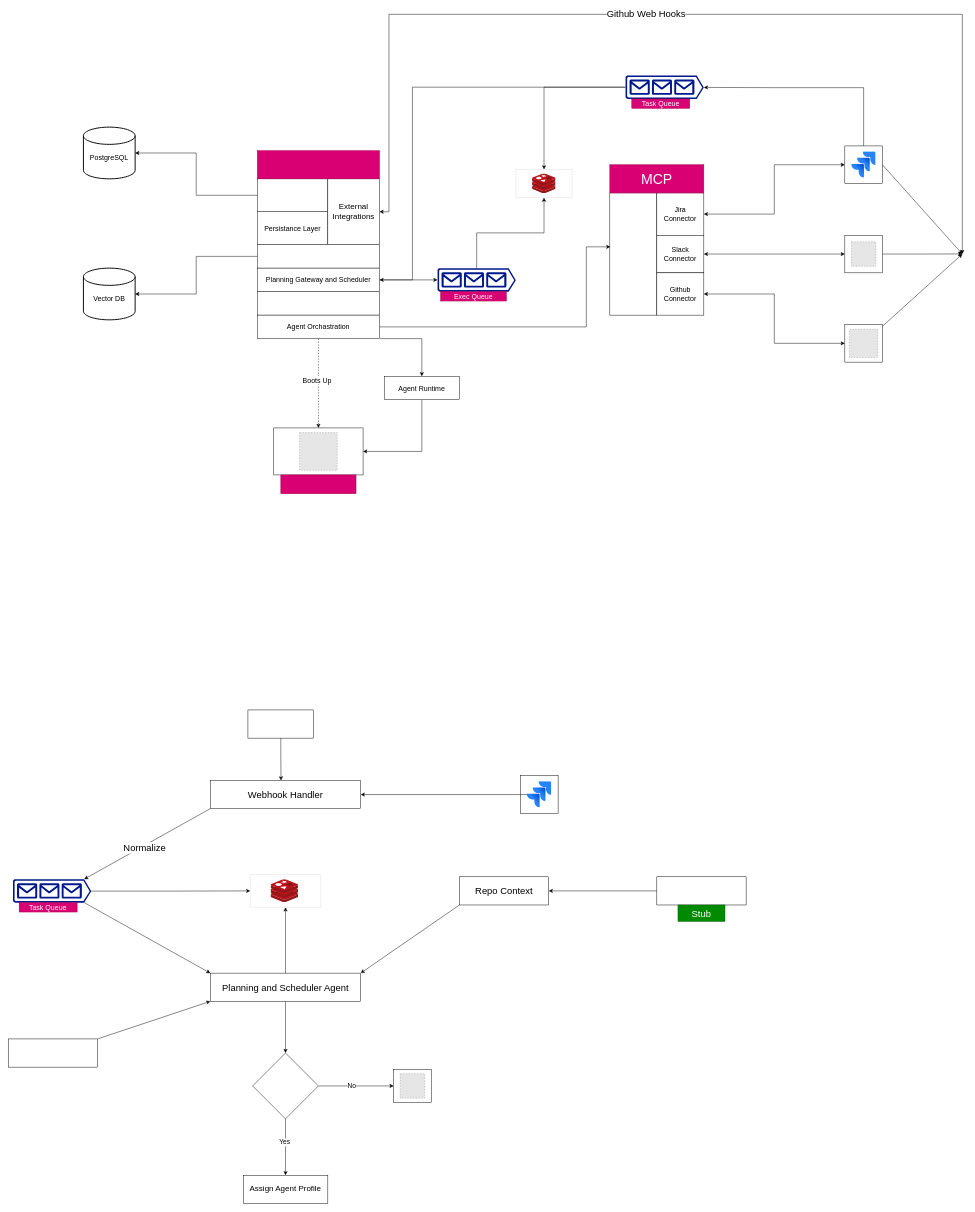
The diagram is 975 pixels wide and 1212 high, and some of its shapes have lost their labels. Grey dashed boxes stand in for pictures. Each missing label, with the box of its shape:
Agent Intelligence: (257, 291, 380, 315)
Agent Profiles: (8, 1038, 98, 1067)
Core: (257, 178, 328, 212)
Feasable ?: (252, 1053, 318, 1119)
Jira Auth: (247, 709, 314, 738)
Maintainer and Retrival Indexing: (257, 244, 380, 268)
Repo Maintainer: (656, 876, 746, 905)
Runtime Container: (280, 474, 356, 494)
Server: (257, 150, 380, 179)
Tools: (609, 192, 657, 315)
